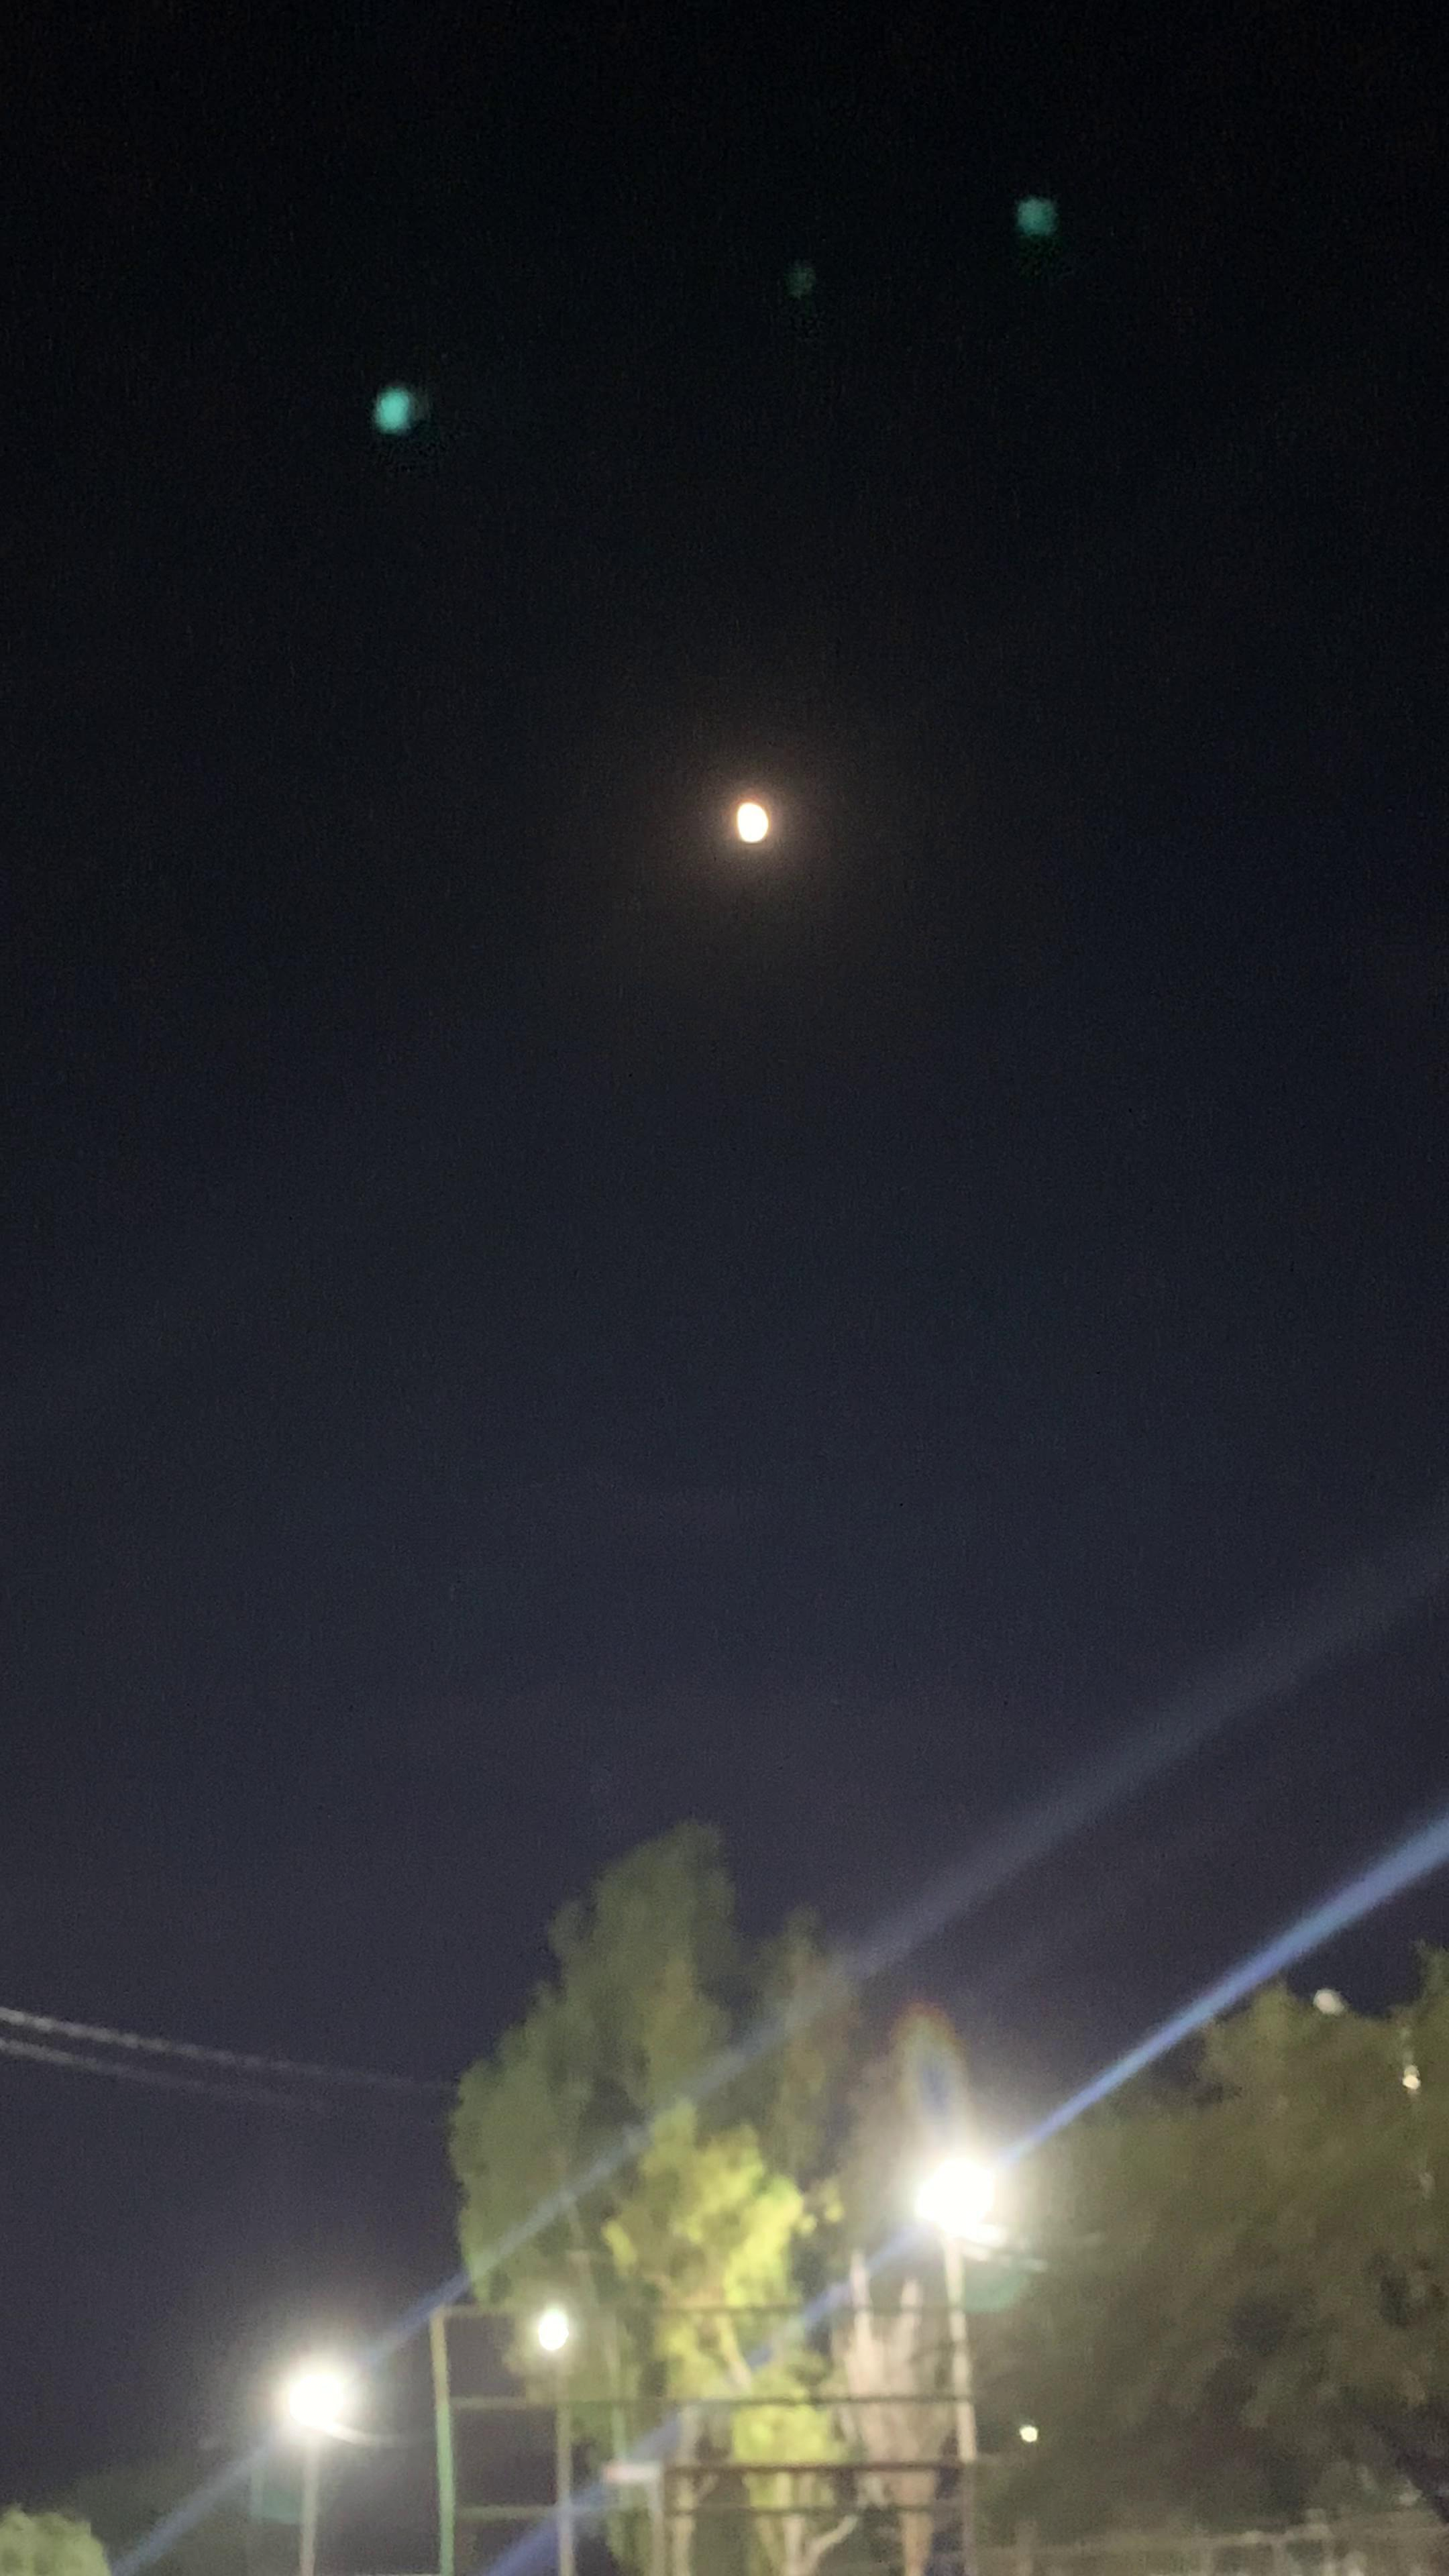moon: (665, 793, 793, 906)
